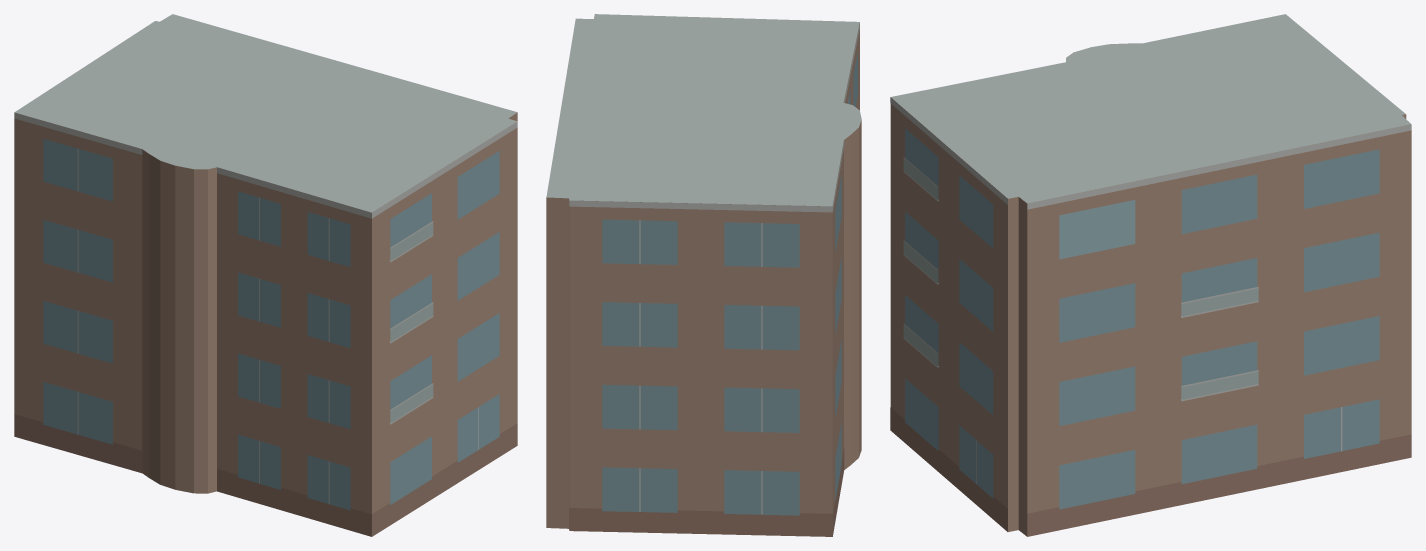
Rendered from survey-upis-32828240.glb.
The picture shows the model from 3 angles, left to right: view 1: azimuth 30°, elevation 25°; view 2: azimuth 150°, elevation 25°; view 3: azimuth 270°, elevation 25°; orthographic projection. The views are drawn at different scales.
Visible parts, largest first — view 1: survey-upis-32828240.tmp; view 2: survey-upis-32828240.tmp; view 3: survey-upis-32828240.tmp.
Boxes of the visible parts, bbox=[...] form: survey-upis-32828240.tmp: bbox=[14, 14, 517, 536]; survey-upis-32828240.tmp: bbox=[546, 14, 861, 536]; survey-upis-32828240.tmp: bbox=[890, 14, 1411, 536].
Size of the model in its own units: 16.1 by 13.2 by 18.7.
